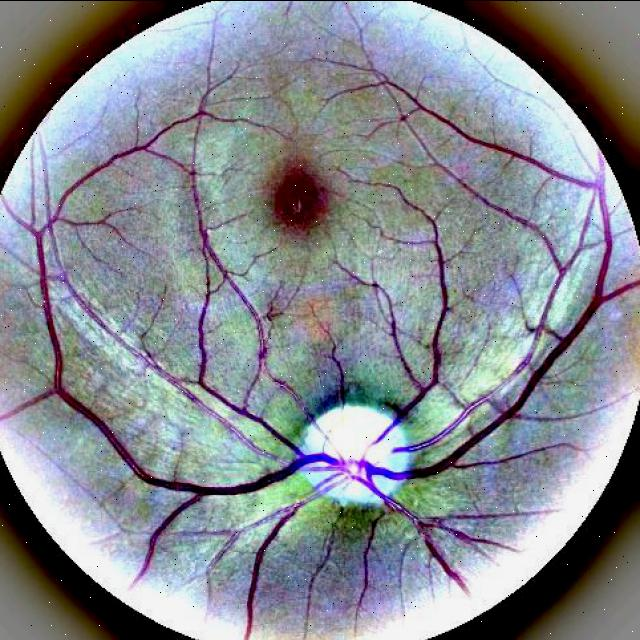Macula: (271, 158, 329, 234)
Optic Disk: (301, 402, 414, 503)
